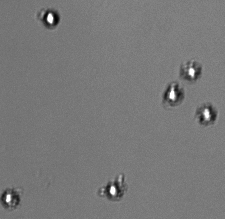Living Cell: (101, 177, 125, 199), (162, 82, 182, 105), (180, 60, 201, 81), (197, 105, 216, 124), (41, 9, 59, 28), (2, 190, 19, 208)
